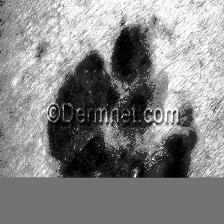Benign Marking or Mole: (48, 50, 114, 174), (153, 131, 192, 177), (115, 32, 139, 73)
